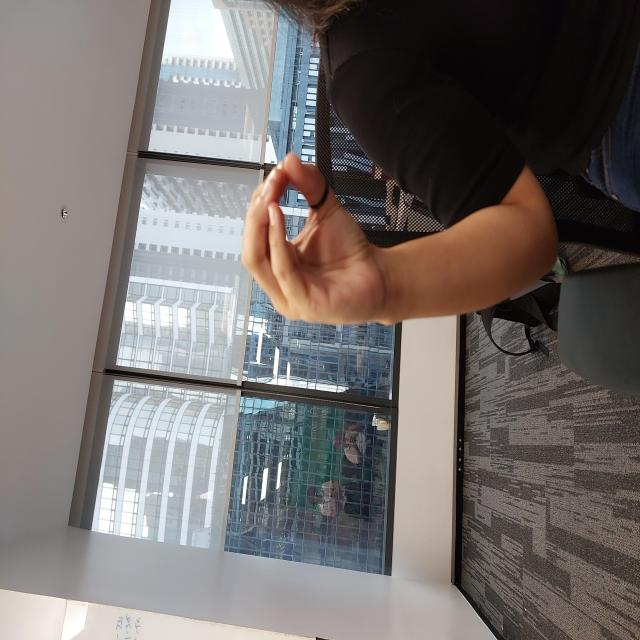O: (312, 239, 490, 393)
